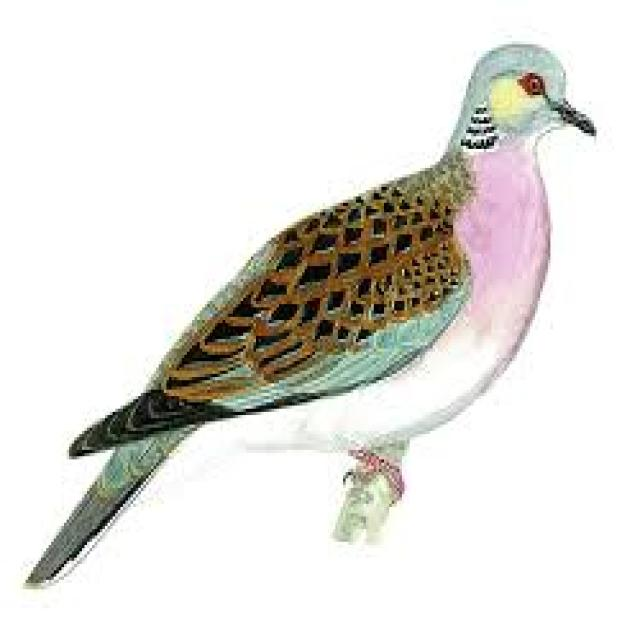pigeon: (19, 17, 611, 614)
